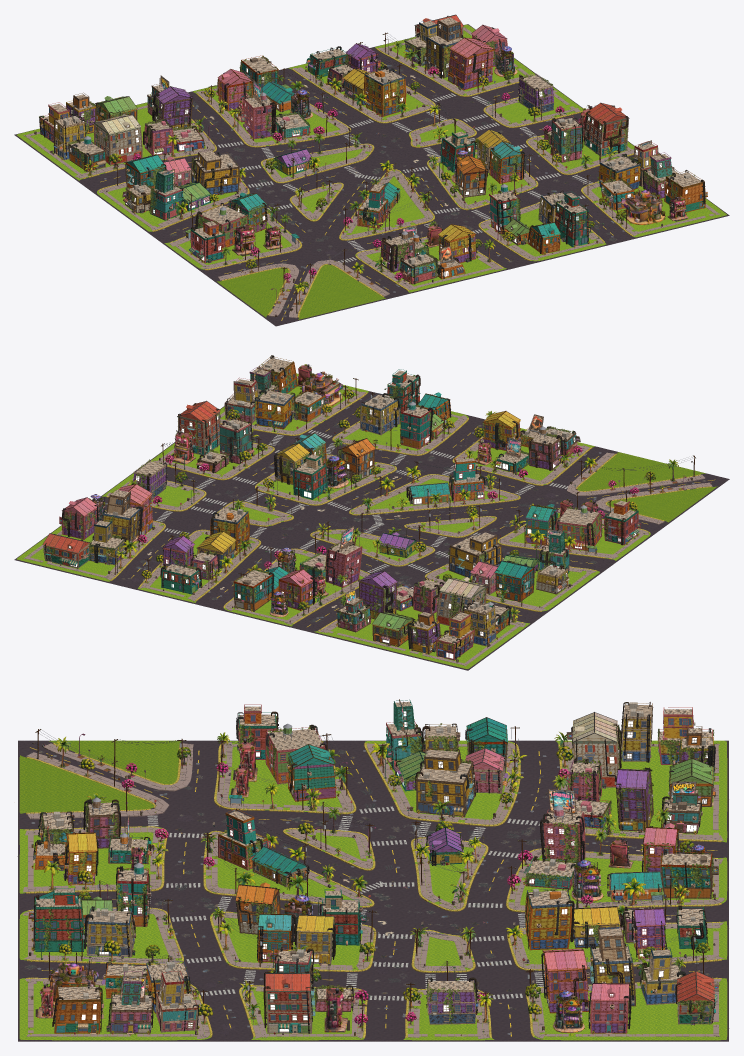
The model's file is toon_city_visual.glb.
3 views of the same model, one above another, from view 1: azimuth 30°, elevation 25°; view 2: azimuth 150°, elevation 25°; view 3: azimuth 270°, elevation 25° (orthographic). The views are drawn at different scales.
Parts seen in each view (by area): view 1: road_wr_asphalt, ground_wr_lots, ground_wr_sidewalk, ground_wr_curbs, wr_street_decals, wr_crosswalks, bld_wk_030, bld_wk_058, bld_wk_066, bld_wk_034, bld_wk_053, prop_wk_poles (+52 smaller); view 2: road_wr_asphalt, ground_wr_lots, ground_wr_sidewalk, ground_wr_curbs, wr_crosswalks, wr_street_decals, prop_wk_poles, bld_wk_030, bld_wk_034, bld_wk_026, bld_wk_066, bld_wk_057 (+50 smaller); view 3: road_wr_asphalt, ground_wr_lots, ground_wr_sidewalk, ground_wr_curbs, wr_street_decals, bld_wk_034, wr_crosswalks, bld_wk_030, bld_wk_003, bld_wk_053, bld_wk_066, prop_wk_poles (+62 smaller).
Boxes of the visible parts, left/top/right/bottom form: road_wr_asphalt: left=14, top=24, right=729, bottom=326; ground_wr_lots: left=17, top=24, right=726, bottom=319; ground_wr_sidewalk: left=23, top=27, right=719, bottom=318; ground_wr_curbs: left=83, top=48, right=633, bottom=317; wr_street_decals: left=39, top=48, right=709, bottom=317; wr_crosswalks: left=218, top=93, right=592, bottom=263; bld_wk_030: left=583, top=102, right=629, bottom=156; bld_wk_058: left=447, top=37, right=495, bottom=90; bld_wk_066: left=93, top=114, right=142, bottom=165; bld_wk_034: left=191, top=149, right=239, bottom=194; bld_wk_053: left=364, top=65, right=406, bottom=116; prop_wk_poles: left=115, top=32, right=629, bottom=313; road_wr_asphalt: left=14, top=391, right=729, bottom=670; ground_wr_lots: left=17, top=373, right=717, bottom=668; ground_wr_sidewalk: left=23, top=376, right=712, bottom=665; ground_wr_curbs: left=105, top=392, right=711, bottom=630; wr_crosswalks: left=156, top=430, right=567, bottom=589; wr_street_decals: left=76, top=392, right=706, bottom=661; prop_wk_poles: left=112, top=378, right=695, bottom=612; bld_wk_030: left=177, top=400, right=220, bottom=455; bld_wk_034: left=447, top=530, right=502, bottom=578; bld_wk_026: left=556, top=505, right=602, bottom=551; bld_wk_066: left=436, top=577, right=487, bottom=625; bld_wk_057: left=102, top=488, right=142, bottom=551; road_wr_asphalt: left=18, top=740, right=728, bottom=1041; ground_wr_lots: left=19, top=740, right=727, bottom=1040; ground_wr_sidewalk: left=22, top=741, right=724, bottom=1038; ground_wr_curbs: left=25, top=743, right=721, bottom=1038; wr_street_decals: left=24, top=744, right=718, bottom=1035; bld_wk_034: left=416, top=747, right=475, bottom=817; wr_crosswalks: left=147, top=806, right=545, bottom=1000; bld_wk_030: left=263, top=971, right=315, bottom=1034; bld_wk_003: left=33, top=888, right=84, bottom=951; bld_wk_053: left=525, top=887, right=574, bottom=950; bld_wk_066: left=572, top=712, right=621, bottom=787; prop_wk_poles: left=35, top=726, right=704, bottom=1031.
Size of the model in its own units: 184 by 20.51 by 182.
Materials: 43 (36 with a texture image).
